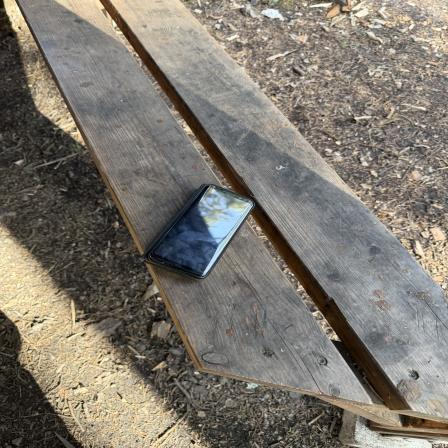phone: (148, 183, 254, 281)
